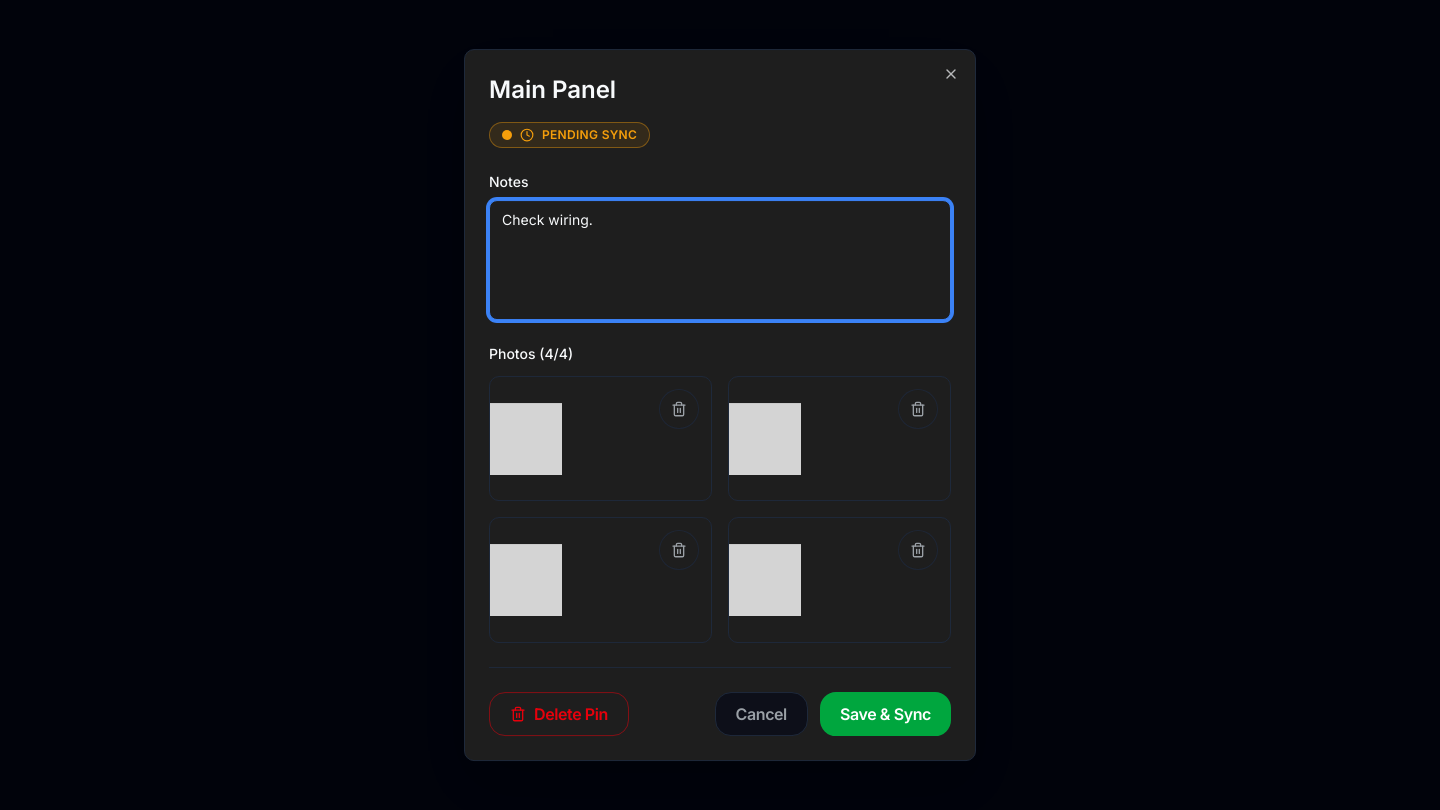
<PinDetailModal /> › reopens the attach control and updates the photo counter after deletion
The image size is (1440, 810).
Expected: the text "Photos (4/4)" is shown, [489, 345, 573, 362]
Expected: the button "Attach Photos" is not shown
Step 1. Click the button named "Delete photo 1" → (679, 409), box [659, 389, 699, 429]
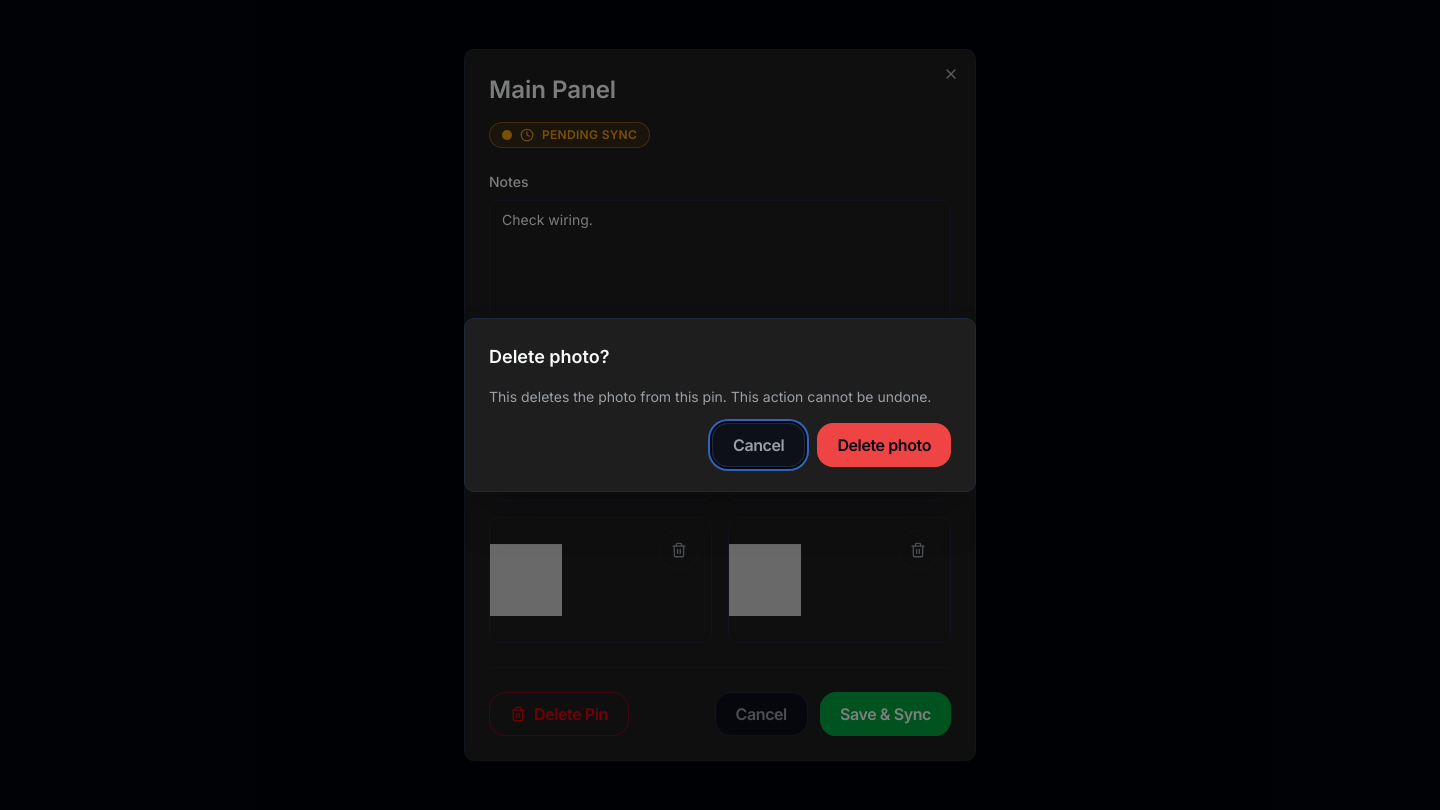
Step 2. Click the button "Delete photo" → (884, 445), box [817, 423, 951, 467]
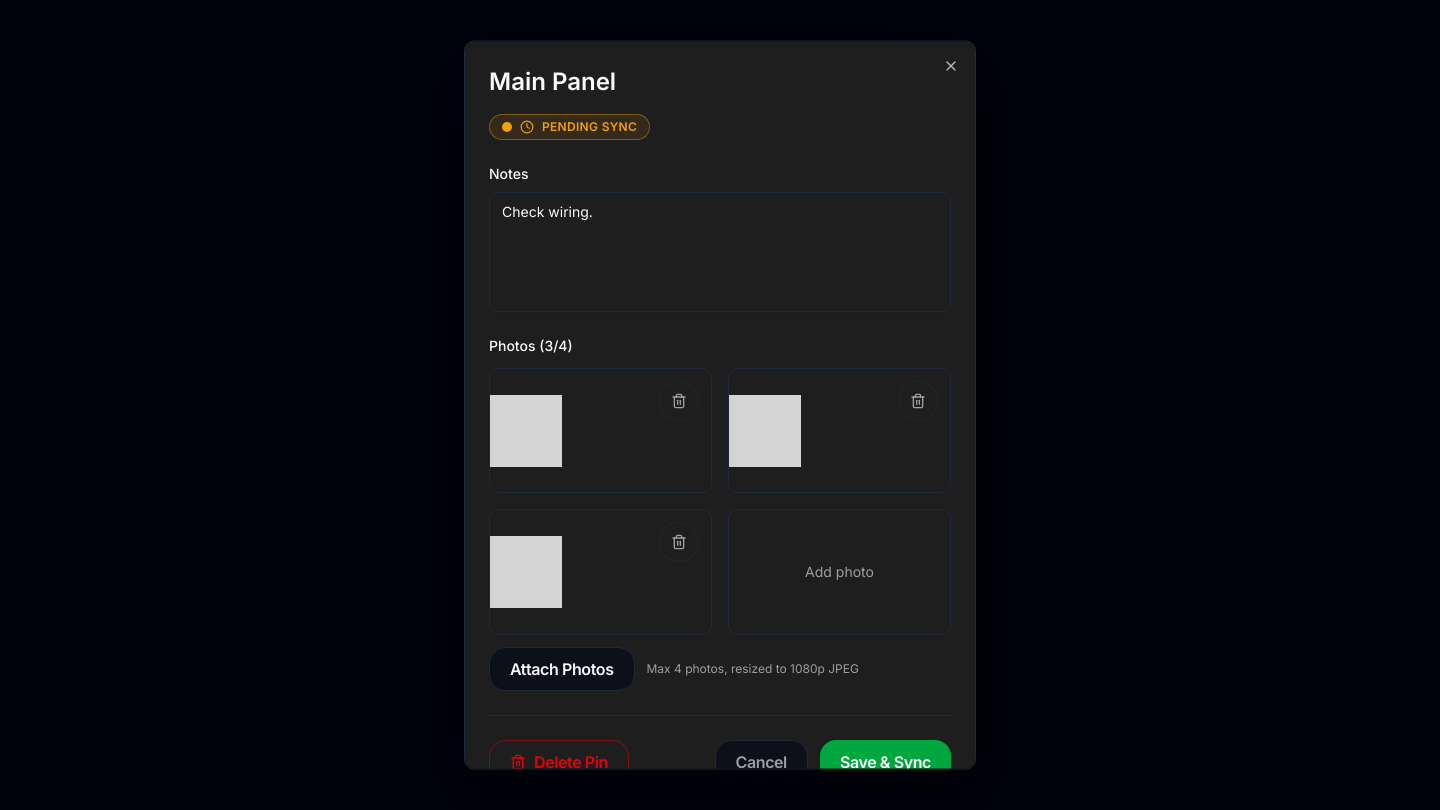
Now the text "Photos (3/4)" is shown, box [489, 336, 573, 354]
Now the button "Attach Photos" is enabled, box [489, 646, 634, 690]
